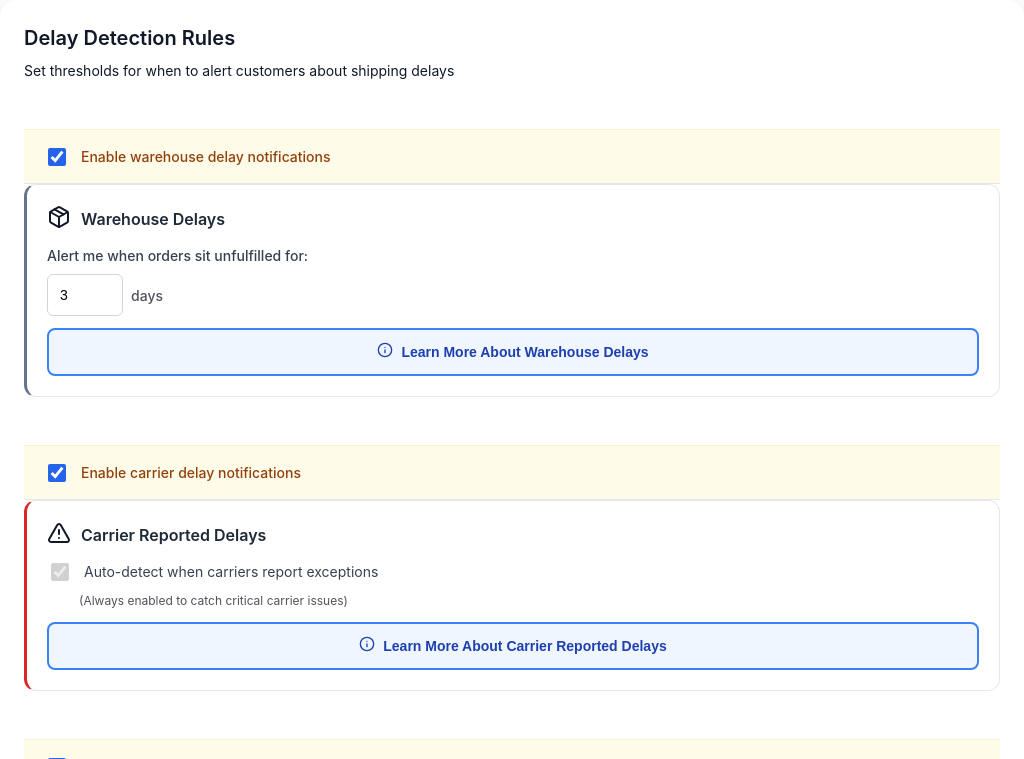
Test: SettingsCard (Phase 1.4) › Phase 1.4: Help Text and Examples › should display help text for Carrier Reported Delays
This screenshot has width=1024, height=759.
Click the button "Learn More About Carrier Reported Delays" at (513, 646), box x1=47 y1=622 x2=979 y2=670
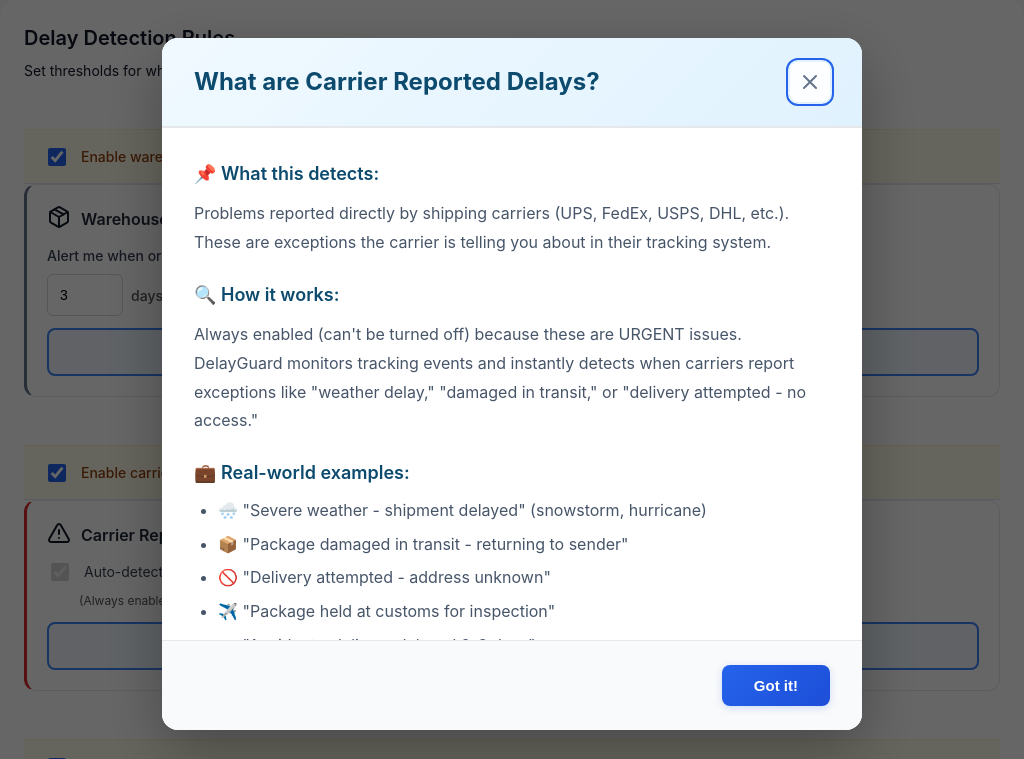
Expected: the text "UPS, FedEx, USPS" is shown, x1=194 y1=203 x2=789 y2=252
